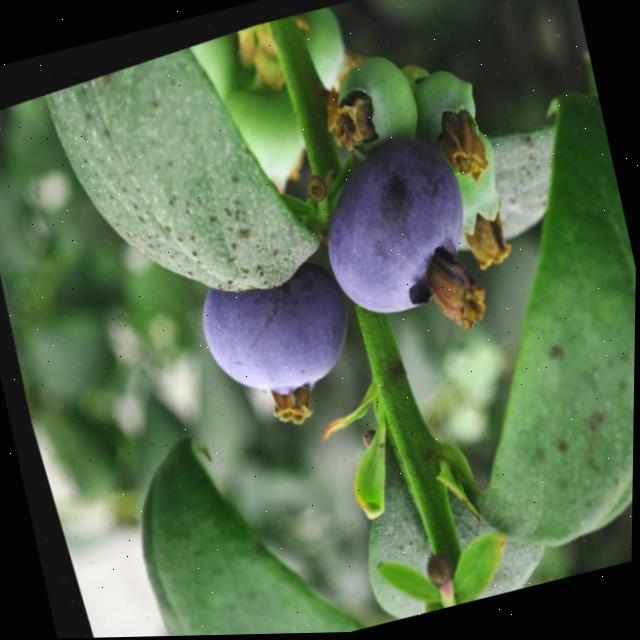RipeBlueBerry: (283, 111, 498, 347), (175, 240, 368, 431)
UnripeBlueBerry: (312, 39, 429, 166)
